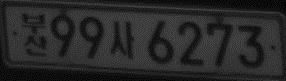2: (177, 20, 203, 65)
3: (237, 24, 264, 68)
6: (147, 19, 174, 64)
7: (206, 22, 233, 66)
9: (49, 12, 75, 56), (78, 15, 104, 59)
부산_V: (21, 12, 48, 56)
사: (109, 20, 135, 59)
